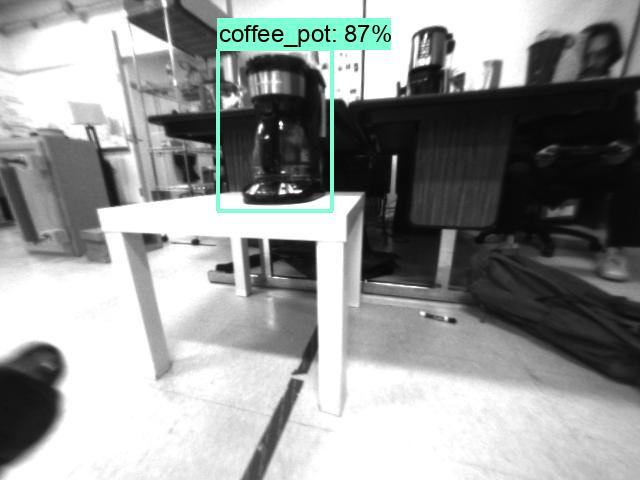coffee_pot: (234, 56, 334, 207)
